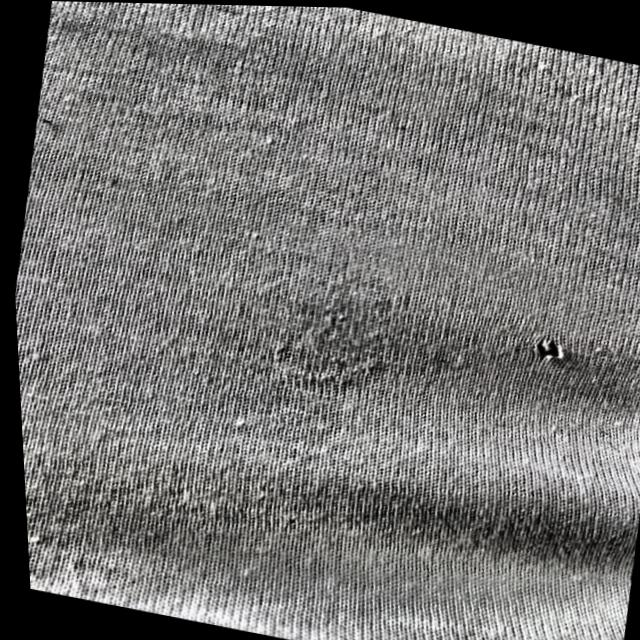Hole: (514, 321, 573, 374)
